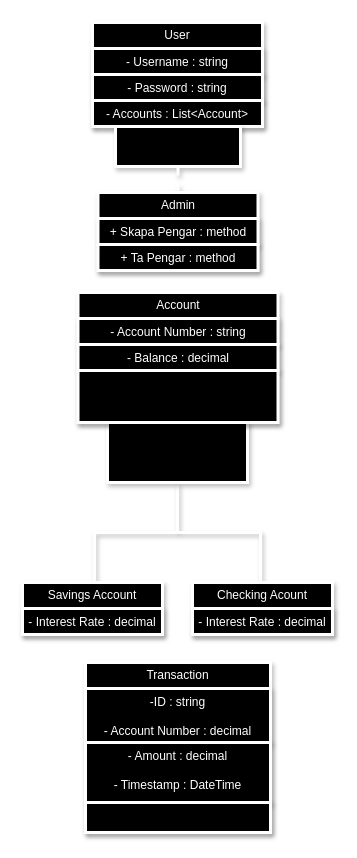
Some shapes in this 357 by 858 pixel diagram are drawn without their labels. Each missing label, with the centre of its shape:
+ Deposit : method + Withdraw : method: pixel 178 453
+ Login() : method + Logout() : method: pixel 179 165
- Owner: User - Transactions : List<Transaction>: pixel 178 397
- Type : string: pixel 179 818
